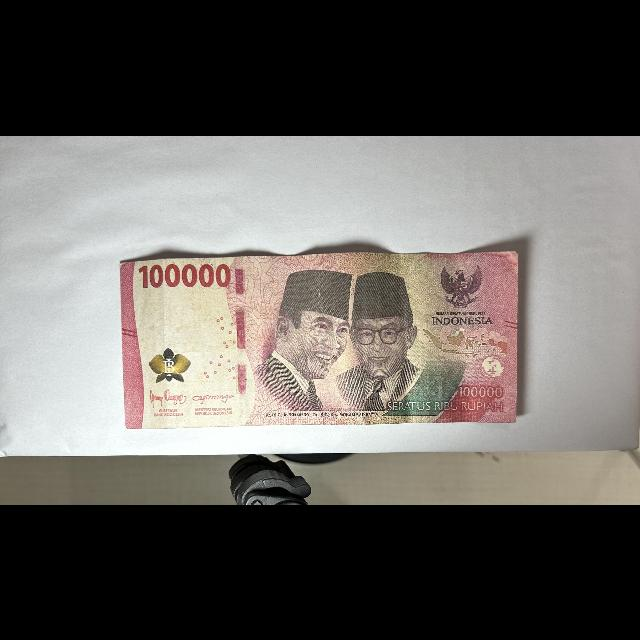Palsu-100k: (119, 249, 520, 430)
Tinta-Palsu-100k: (149, 346, 192, 382)
